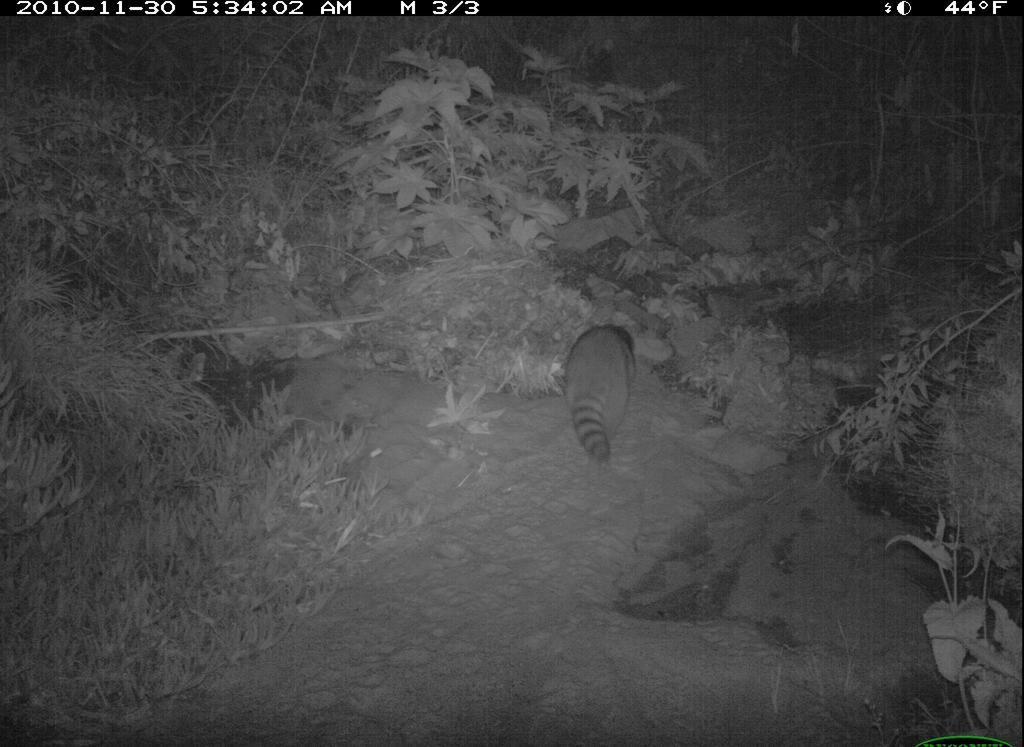raccoon: (556, 314, 648, 479)
